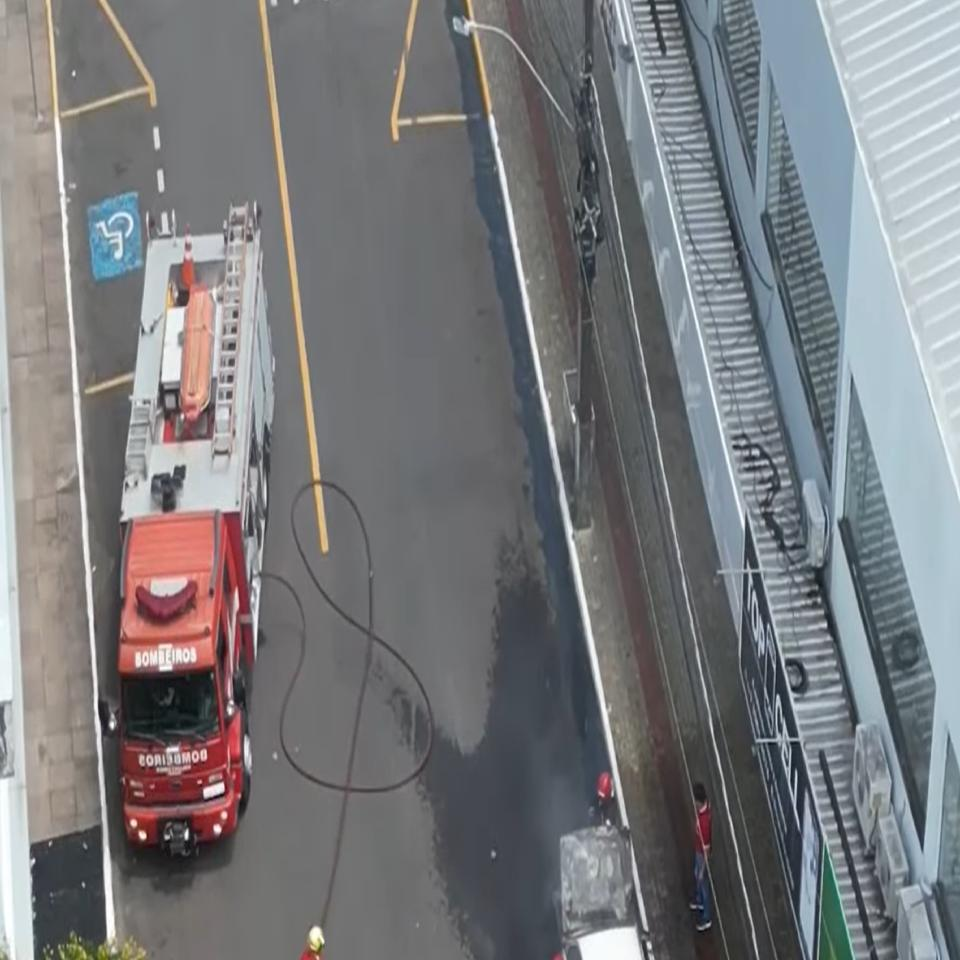viatura: (98, 200, 276, 862)
